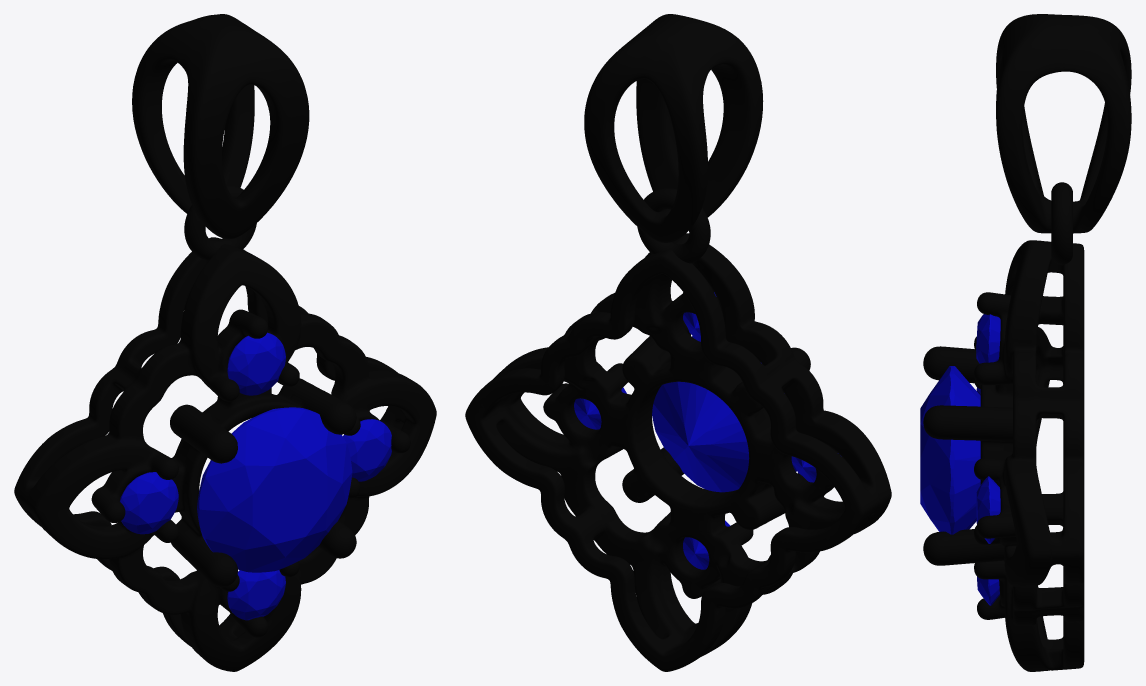
3 renders of one model, left to right at view 1: azimuth 30°, elevation 25°; view 2: azimuth 150°, elevation 25°; view 3: azimuth 270°, elevation 25°, orthographic. The views are drawn at different scales.
Visible parts, largest first — view 1: Editional_PD_3C.3dm, COLOR= MATERIAL=, Diamond_Round, G_1.7 (×4); view 2: Editional_PD_3C.3dm, COLOR= MATERIAL=, Diamond_Round, G_1.7 (×2); view 3: Editional_PD_3C.3dm, COLOR= MATERIAL=, Diamond_Round, G_1.7 (×3).
Boxes of the visible parts, bbox=[...] form: Editional_PD_3C.3dm: bbox=[14, 184, 436, 671]; COLOR= MATERIAL=: bbox=[132, 14, 309, 239]; Diamond_Round: bbox=[197, 407, 352, 572]; G_1.7 (×4): bbox=[120, 332, 391, 620]; Editional_PD_3C.3dm: bbox=[465, 188, 891, 671]; COLOR= MATERIAL=: bbox=[584, 14, 763, 242]; Diamond_Round: bbox=[652, 336, 796, 492]; G_1.7 (×2): bbox=[574, 387, 730, 569]; Editional_PD_3C.3dm: bbox=[923, 182, 1084, 671]; COLOR= MATERIAL=: bbox=[996, 14, 1131, 233]; Diamond_Round: bbox=[920, 366, 980, 534]; G_1.7 (×3): bbox=[976, 314, 1000, 605].
Bounding box in the file's own units: 2.14 × 3.24 × 0.9531.
